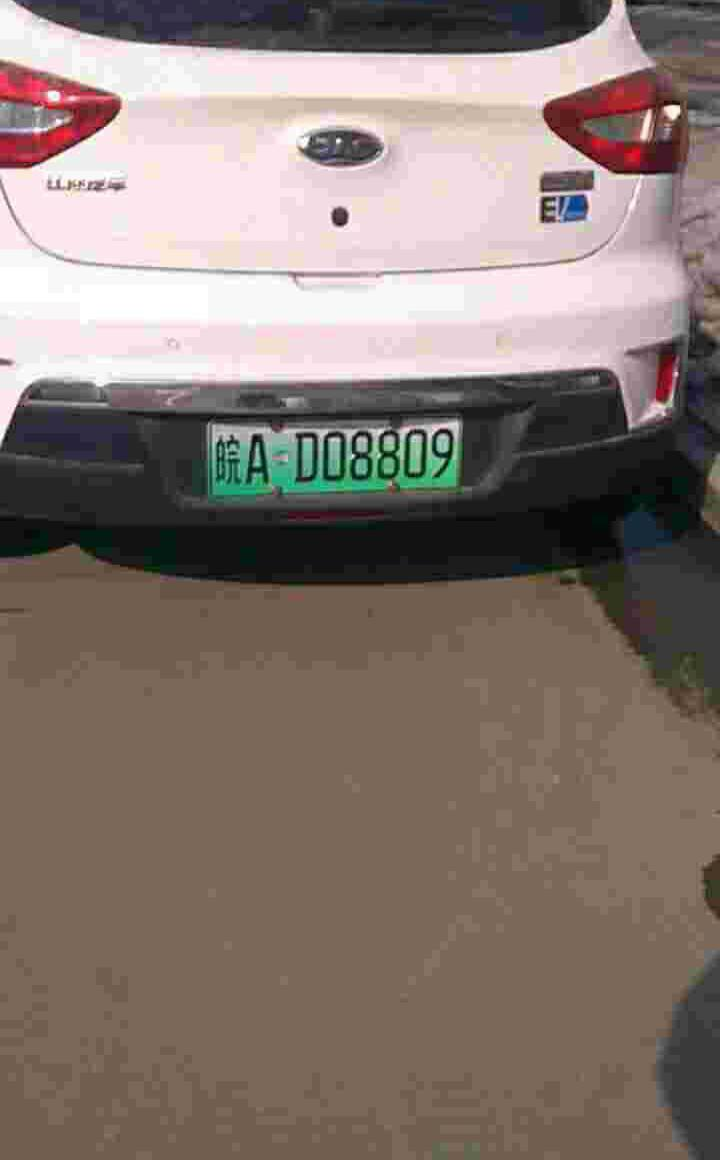car_green: (199, 416, 467, 497)
